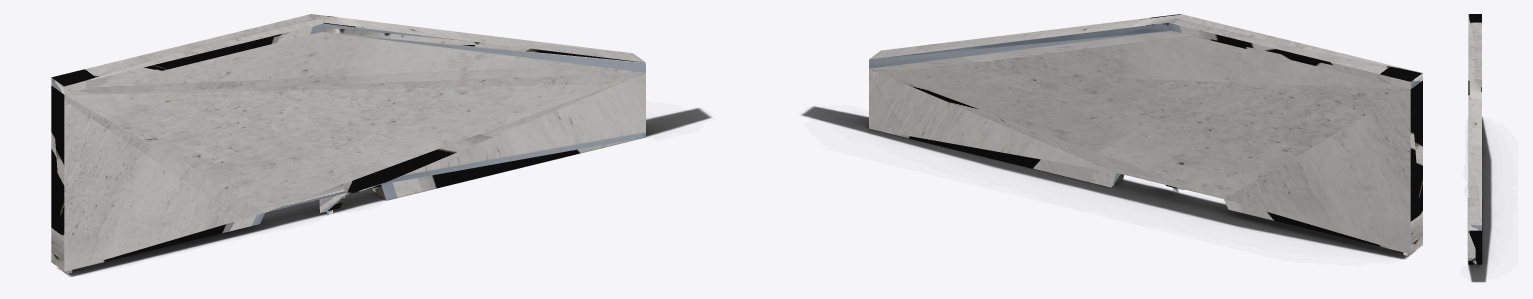
File: railslide-98-38.gltf
3 views of the same model, side by side, from view 1: azimuth 30°, elevation 25°; view 2: azimuth 150°, elevation 25°; view 3: azimuth 270°, elevation 25° (orthographic). The views are drawn at different scales.
Visible parts, largest first — view 1: SK0057_Railslide_-98-38.001, Schatten; view 2: SK0057_Railslide_-98-38.001, Schatten; view 3: SK0057_Railslide_-98-38.001, Schatten.
Boxes of the visible parts, <box> form: SK0057_Railslide_-98-38.001: <box>51,14,645,274</box>; Schatten: <box>58,108,711,276</box>; SK0057_Railslide_-98-38.001: <box>869,14,1422,256</box>; Schatten: <box>801,106,1415,259</box>; SK0057_Railslide_-98-38.001: <box>1468,14,1481,264</box>; Schatten: <box>1467,117,1492,282</box>.
Size of the model in its own units: 3.54 by 0.98 by 0.5112.
Materials: 3 (3 with a texture image).
